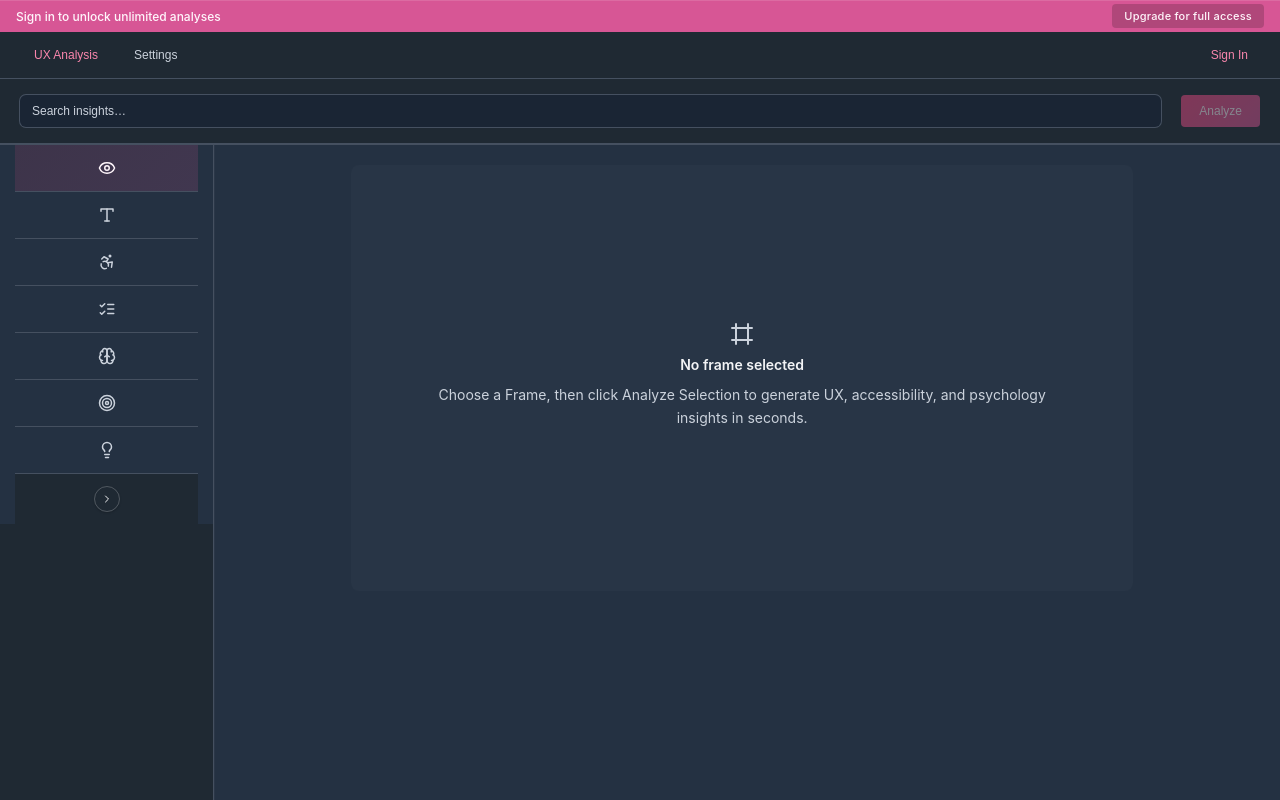
App debug copy analysis control › surfaces manual copy fallback when the clipboard API is unavailable
What coordinates should you click on to do the following:
click the button named "Expand sidebar"
I would click on:
 (107, 499)
Its box is [94,486,120,512].
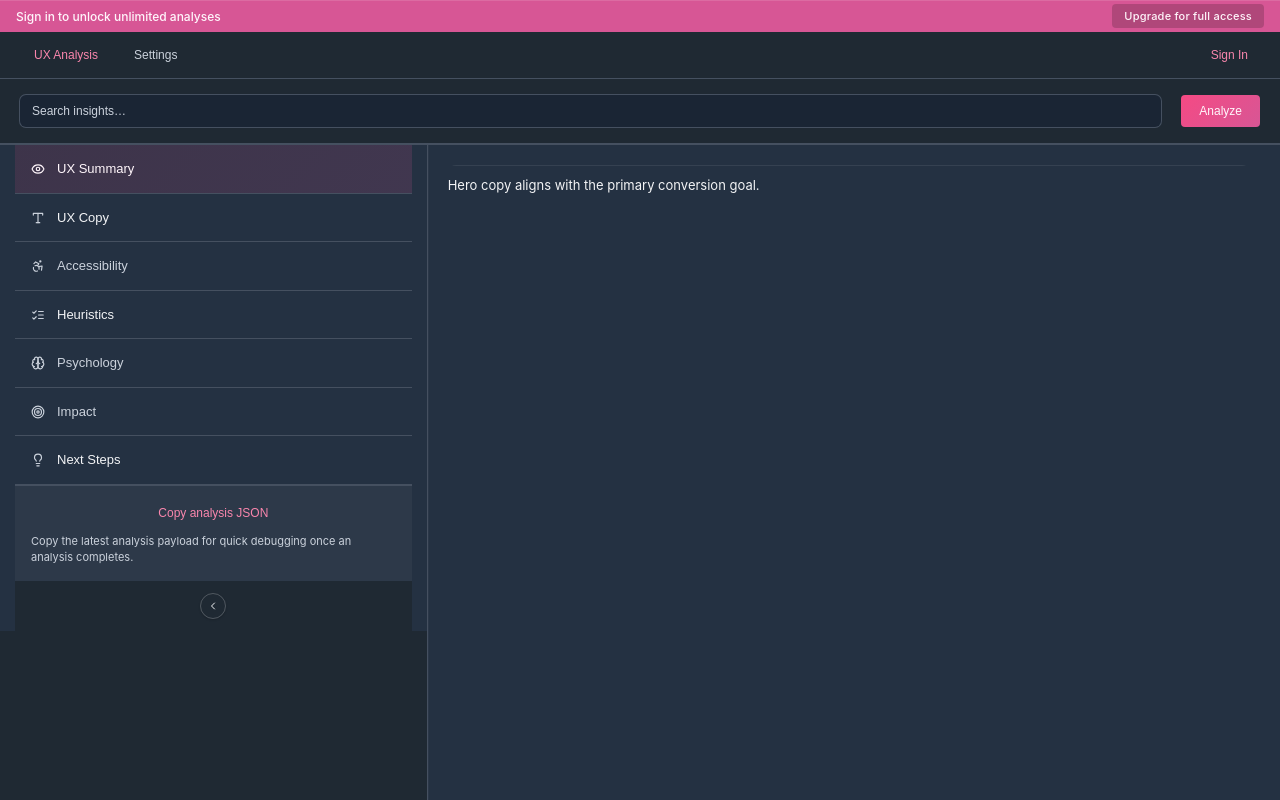
What coordinates should you click on to do the following:
click the button "Copy analysis JSON"
I would click on:
 (213, 513)
Its box is [31,498,396,528].
(page scrolled)
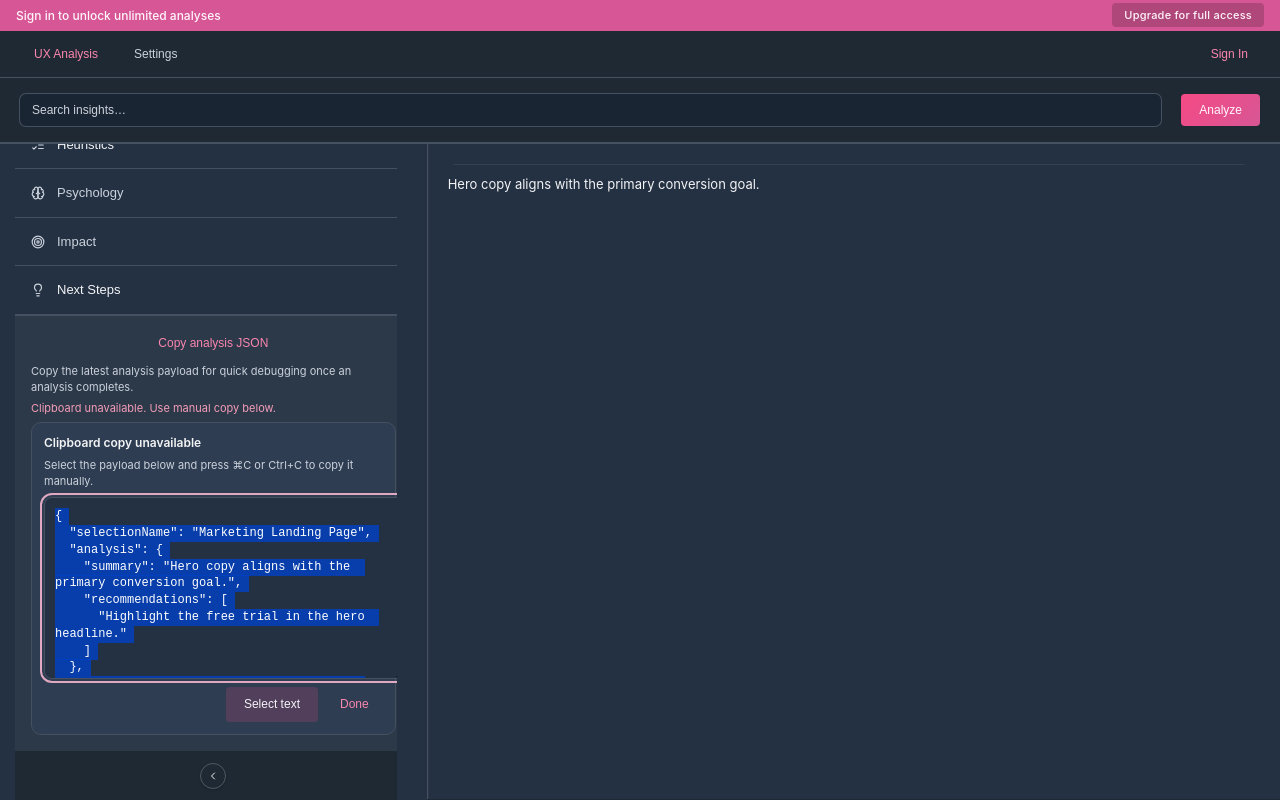
Now the text "Clipboard unavailable. Use manual copy below." is shown, box [31,401,276,415]
Now the element "Clipboard copy unavailable" is shown, box [31,422,396,735]
What coordinates should you click on to do the following:
click the button "Done"
I would click on:
 (354, 704)
Its box is [326,687,383,722].
(page scrolled)
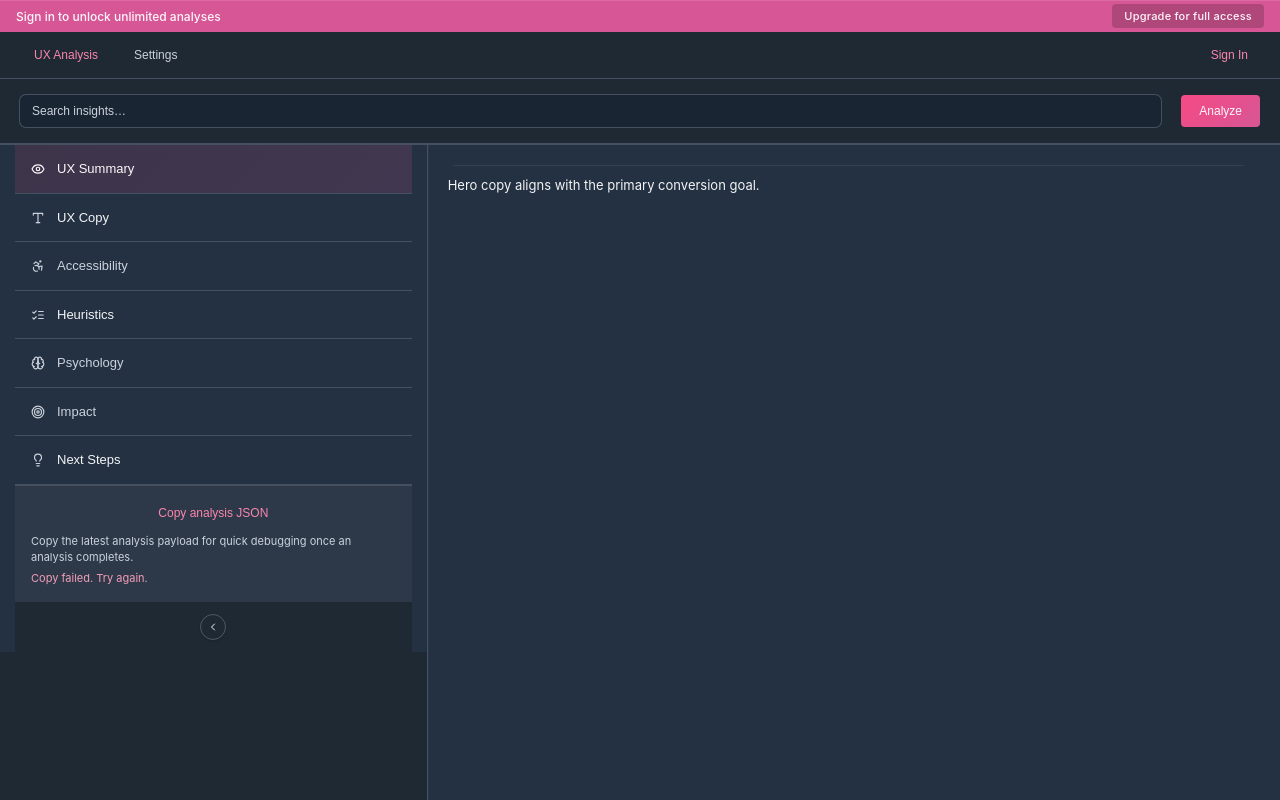
Now the text "Clipboard copy unavailable" is gone
